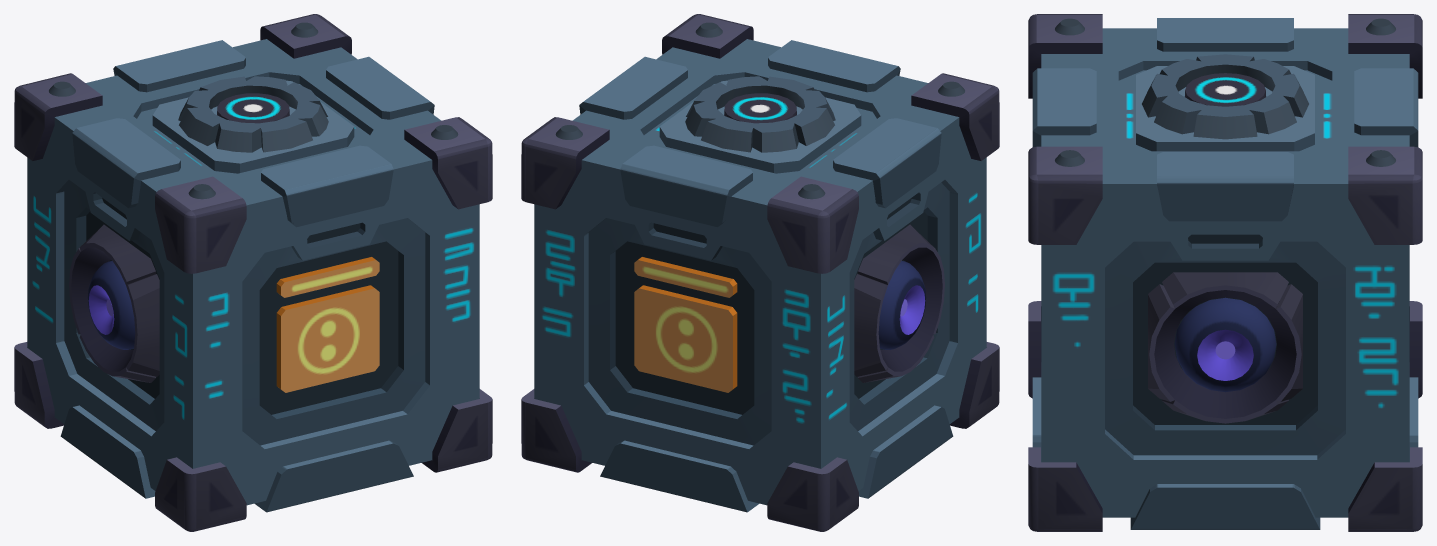
The model's file is Scifi_LootBox_06.fbx.
The picture shows the model from 3 angles, left to right: view 1: azimuth 30°, elevation 25°; view 2: azimuth 150°, elevation 25°; view 3: azimuth 270°, elevation 25°; orthographic projection. The views are drawn at different scales.
Visible parts, largest first — view 1: Scifi_LootBox_06; view 2: Scifi_LootBox_06; view 3: Scifi_LootBox_06.
Boxes of the visible parts, box(x1,y1,x2,y2) form: Scifi_LootBox_06: box(14, 14, 492, 531); Scifi_LootBox_06: box(521, 14, 999, 531); Scifi_LootBox_06: box(1028, 14, 1422, 531).
Size of the model in its own units: 214 by 219 by 214.
